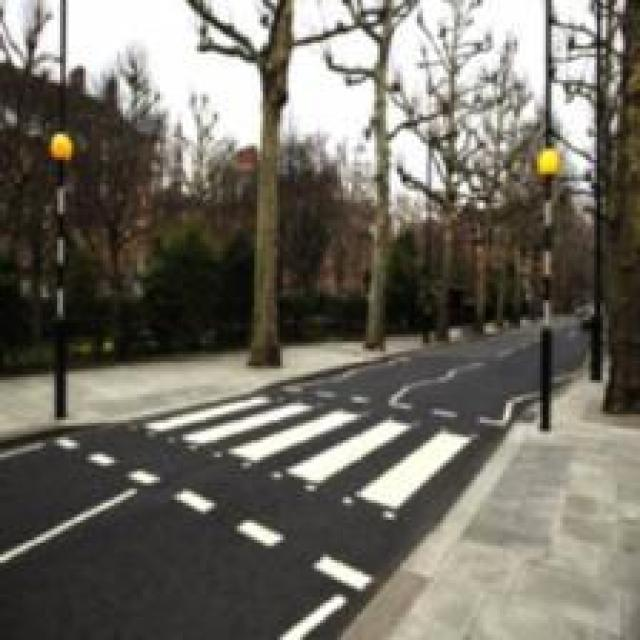crosswalk: (113, 385, 499, 593)
